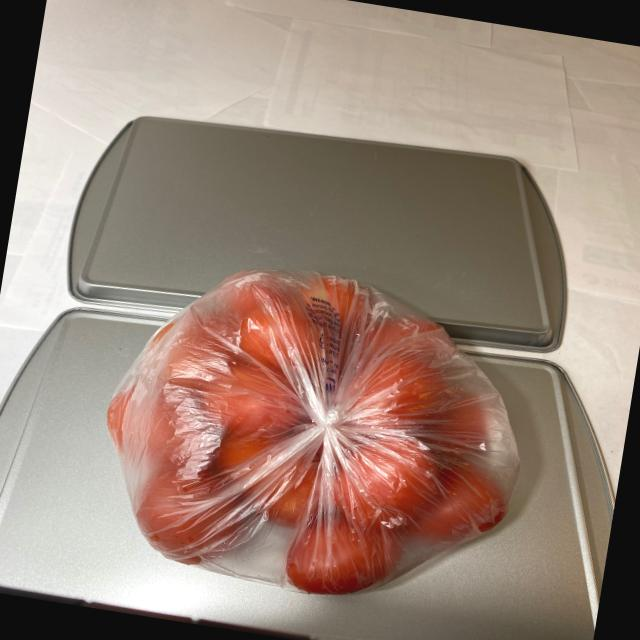tomato: (81, 246, 542, 620)
